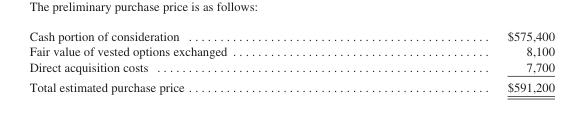table: (28, 28, 553, 93)
table column: (28, 28, 366, 93), (366, 28, 553, 93)
table row: (28, 58, 553, 76), (28, 76, 553, 93), (28, 28, 553, 43), (28, 43, 553, 58)
